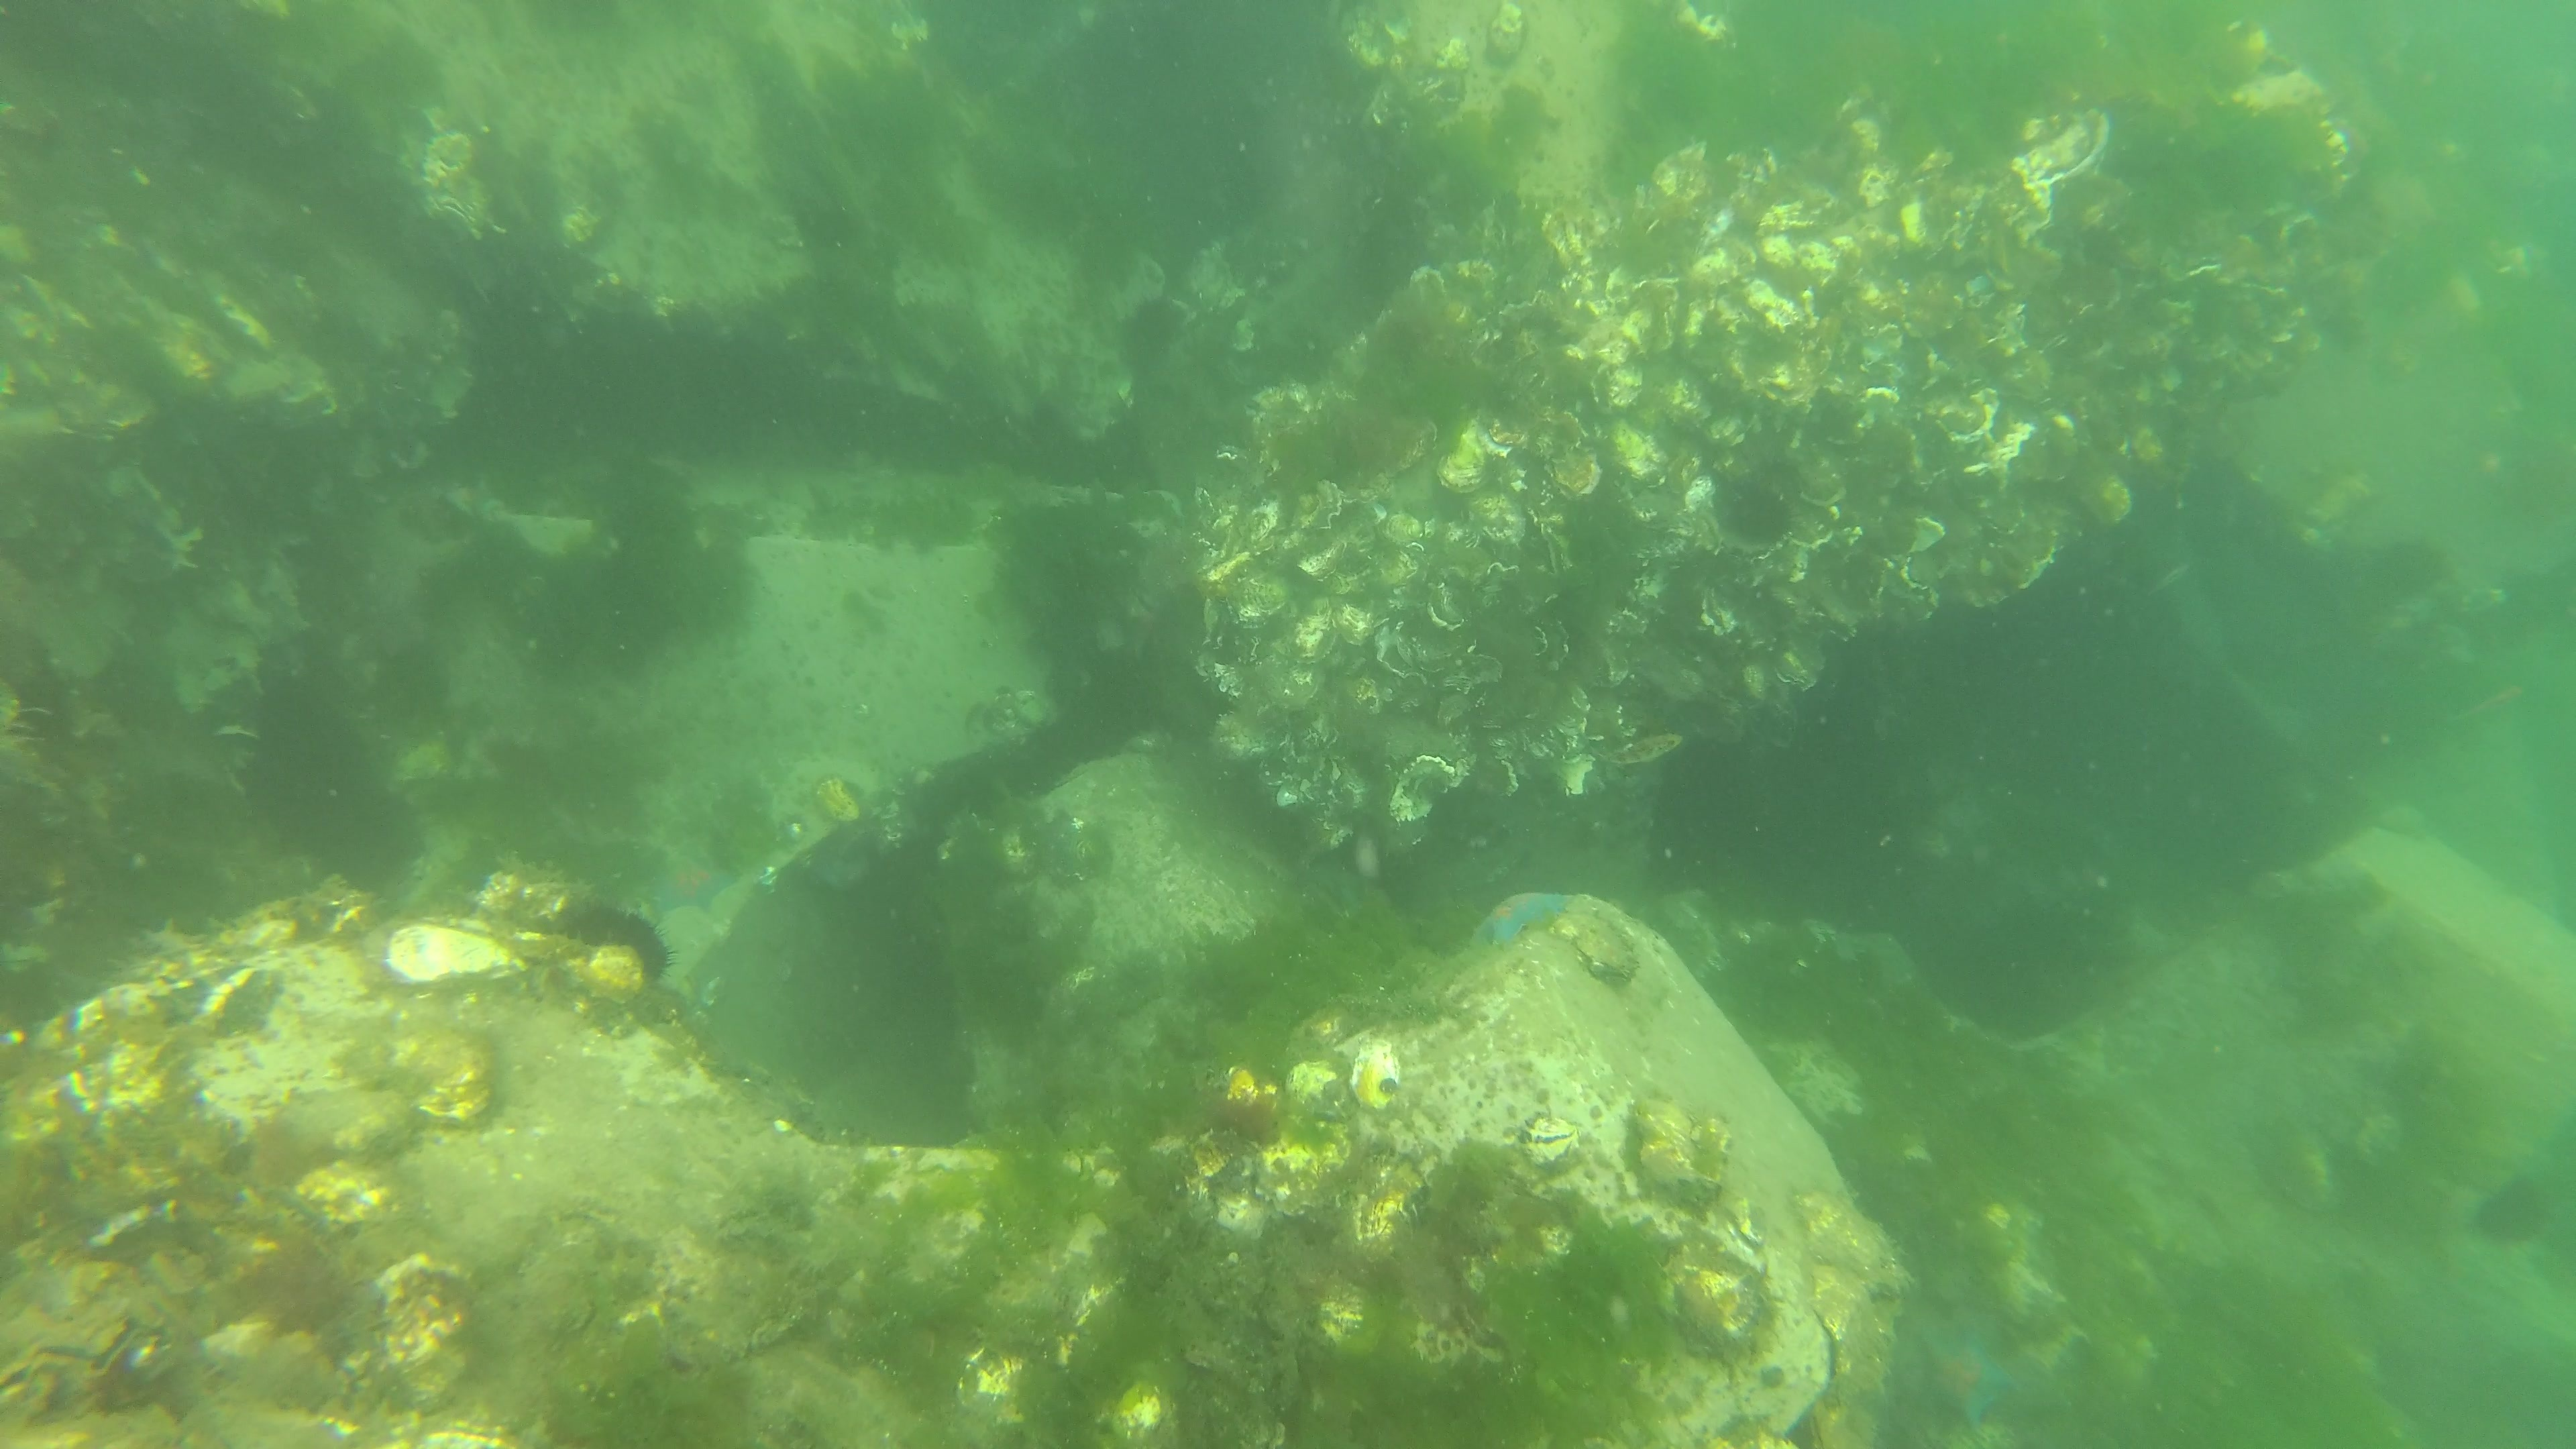echinus: (554, 901, 679, 989), (1116, 292, 1189, 375)
starfish: (1905, 1327, 2024, 1433), (1463, 883, 1578, 957), (651, 858, 738, 920)
